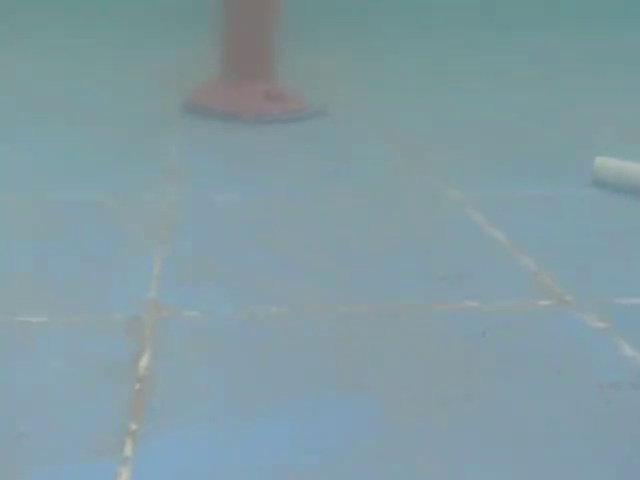flare: (170, 0, 313, 125)
